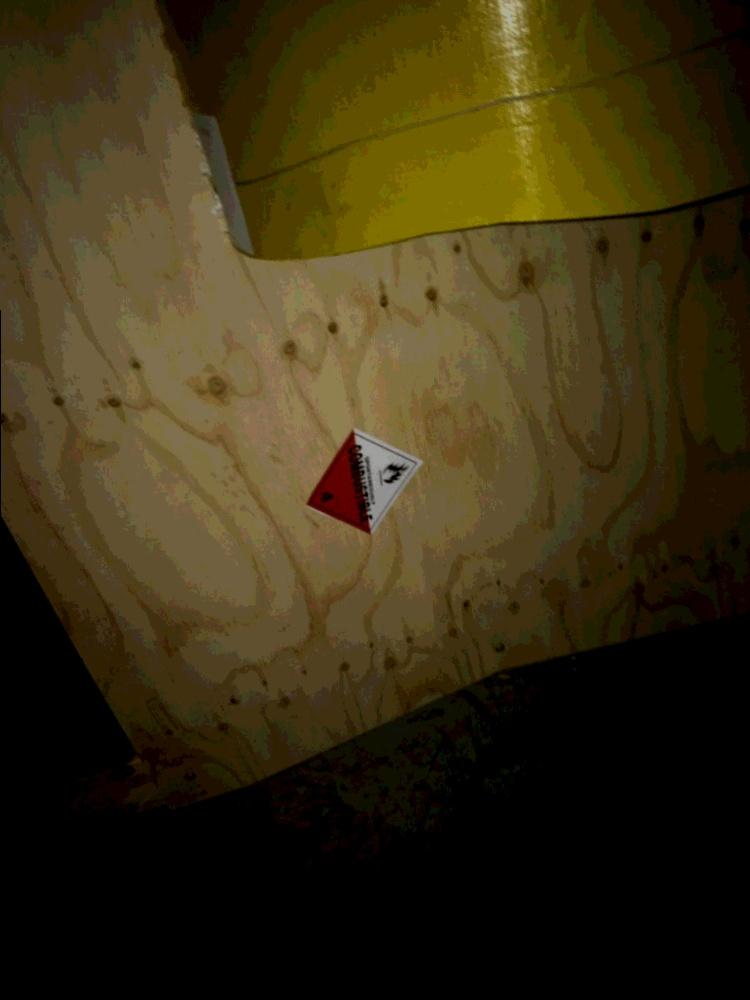spontaneously-combustible: (304, 416, 428, 541)
